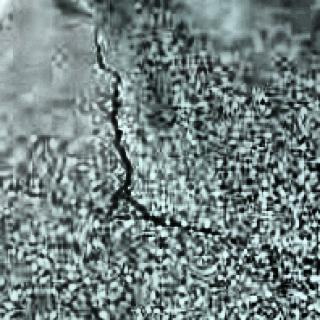crack: (64, 1, 144, 215)
